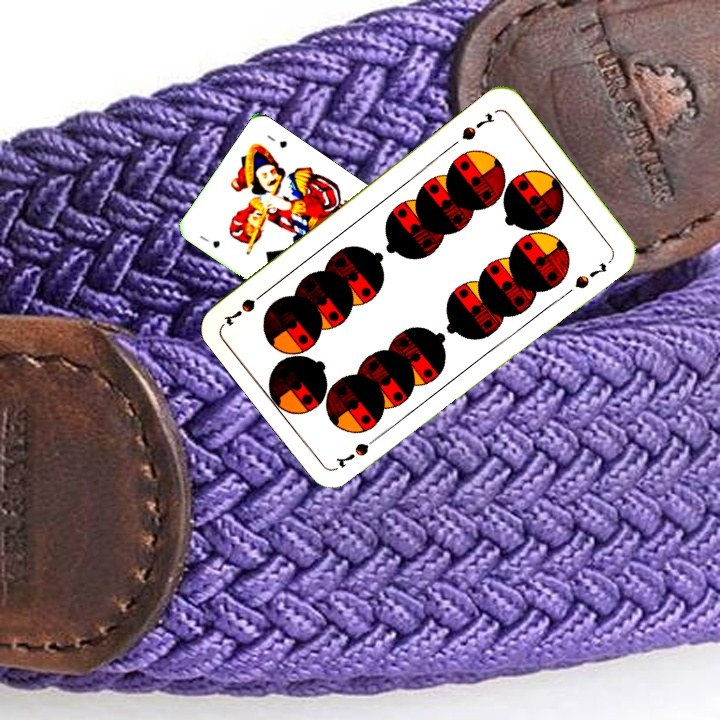GU: (195, 231, 223, 251)
S7: (331, 430, 384, 471), (458, 109, 497, 143)
